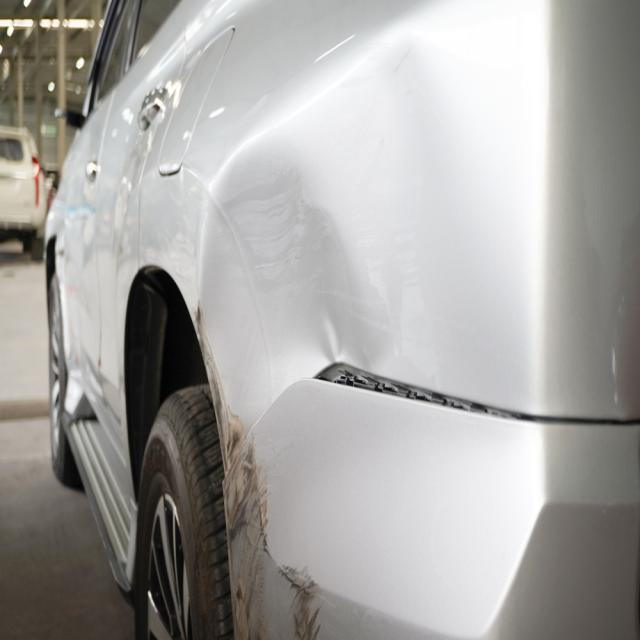Cabossage: (198, 162, 346, 380)
Dechirure: (309, 351, 640, 440)
Rayure: (195, 303, 324, 640)
